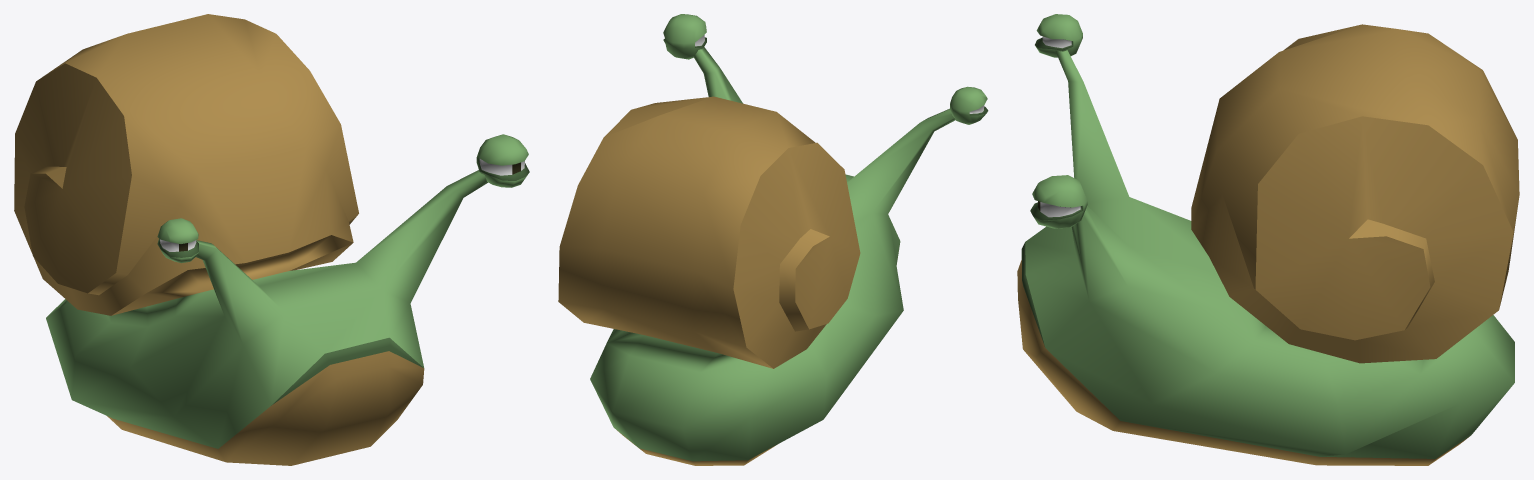
Rendered from ulitka_bez_anim.fbx.
3 views of the same model, side by side, from view 1: azimuth 30°, elevation 25°; view 2: azimuth 150°, elevation 25°; view 3: azimuth 270°, elevation 25° (orthographic). The views are drawn at different scales.
Parts seen in each view (by area): view 1: ulitka5; view 2: ulitka5; view 3: ulitka5.
Boxes of the visible parts, x1=… form: ulitka5: x1=14, y1=14, x2=529, y2=465; ulitka5: x1=558, y1=14, x2=988, y2=465; ulitka5: x1=1017, y1=14, x2=1519, y2=465.
Size of the model in its own units: 3.06 by 2.92 by 3.49.
